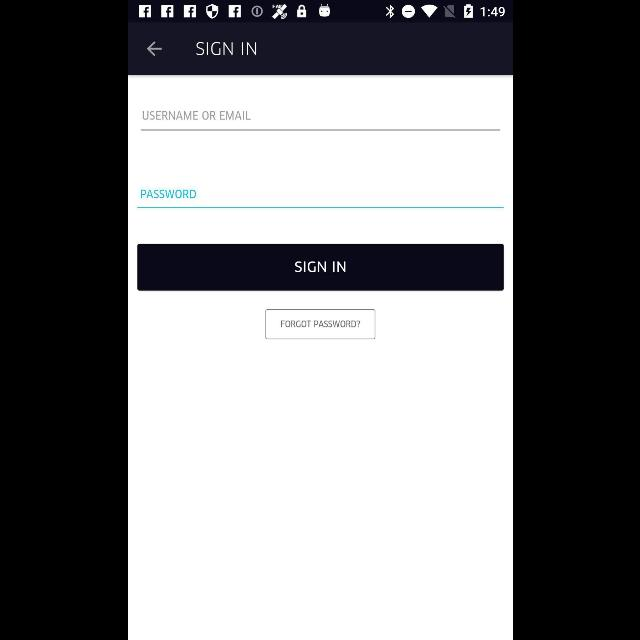icon: (146, 41, 162, 57)
input: (140, 111, 500, 131), (137, 190, 503, 208)
text: (142, 112, 250, 120), (196, 42, 256, 56), (140, 190, 196, 200)
textbutton: (137, 243, 503, 290), (265, 309, 375, 339)
toolbar: (128, 23, 512, 75)
uppertaskbar: (128, 1, 512, 23)
